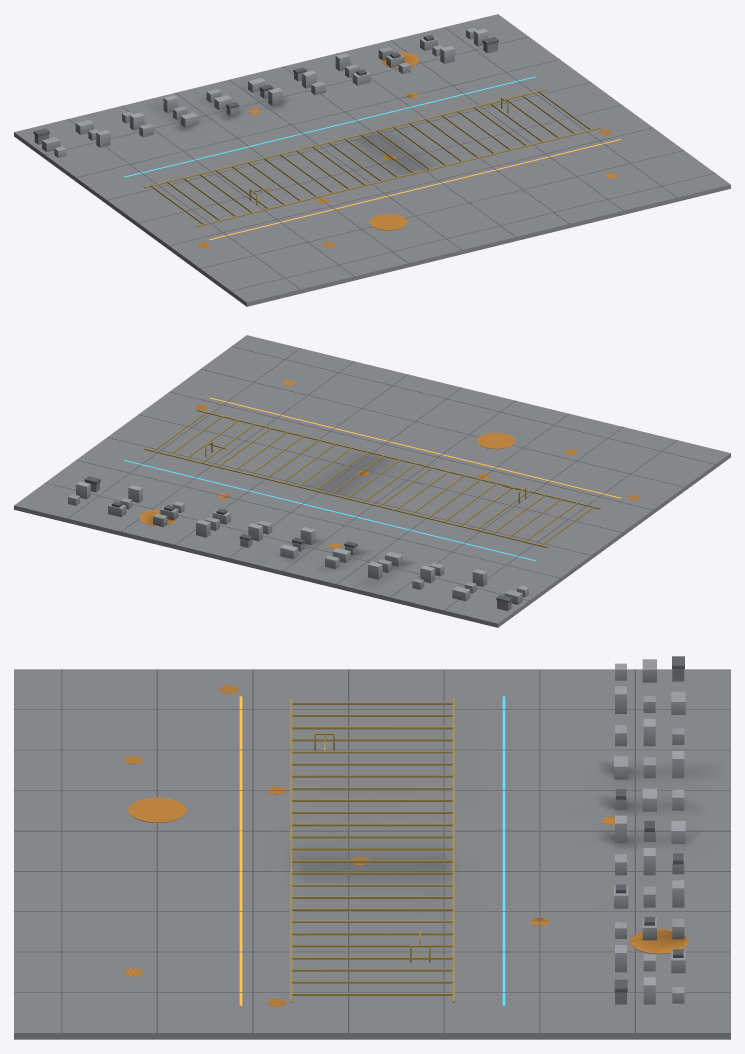
File: 01_station_deck.glb
The picture shows the model from 3 angles, top to bottom: view 1: azimuth 30°, elevation 25°; view 2: azimuth 150°, elevation 25°; view 3: azimuth 270°, elevation 25°; orthographic projection. The views are drawn at different scales.
Parts seen in each view (by area): view 1: station_deck_deck, station_deck_hulldark_nocol, station_deck_shiphull, station_deck_truss, station_deck_hazard_nocol, station_deck_glowcyan_nocol, station_deck_glowamber_nocol, station_deck_hulldark; view 2: station_deck_deck, station_deck_hulldark_nocol, station_deck_shiphull, station_deck_truss, station_deck_hazard_nocol, station_deck_glowamber_nocol, station_deck_glowcyan_nocol, station_deck_hulldark; view 3: station_deck_deck, station_deck_truss, station_deck_hulldark_nocol, station_deck_shiphull, station_deck_hazard_nocol, station_deck_glowamber_nocol, station_deck_glowcyan_nocol, station_deck_hulldark.
Boxes of the visible parts, box(x1,y1,x2,y2) form: station_deck_deck: box(14, 14, 730, 306); station_deck_hulldark_nocol: box(45, 27, 715, 291); station_deck_shiphull: box(34, 27, 497, 157); station_deck_truss: box(144, 88, 600, 226); station_deck_hazard_nocol: box(198, 52, 617, 247); station_deck_glowcyan_nocol: box(124, 62, 535, 177); station_deck_glowamber_nocol: box(209, 65, 620, 239); station_deck_hulldark: box(33, 35, 498, 136); station_deck_deck: box(14, 335, 730, 627); station_deck_hulldark_nocol: box(45, 346, 715, 610); station_deck_shiphull: box(68, 481, 528, 611); station_deck_truss: box(144, 409, 600, 547); station_deck_hazard_nocol: box(139, 380, 640, 548); station_deck_glowamber_nocol: box(209, 397, 620, 498); station_deck_glowcyan_nocol: box(124, 460, 535, 560); station_deck_hulldark: box(84, 476, 512, 602); station_deck_deck: box(14, 669, 730, 1039); station_deck_truss: box(290, 698, 454, 1002); station_deck_hulldark_nocol: box(14, 669, 730, 1032); station_deck_shiphull: box(614, 659, 685, 1004); station_deck_hazard_nocol: box(124, 685, 688, 1006); station_deck_glowamber_nocol: box(136, 696, 685, 1005); station_deck_glowcyan_nocol: box(136, 696, 685, 1005); station_deck_hulldark: box(614, 656, 684, 992).
Bounding box in the file's own units: 360 × 12 × 300.
